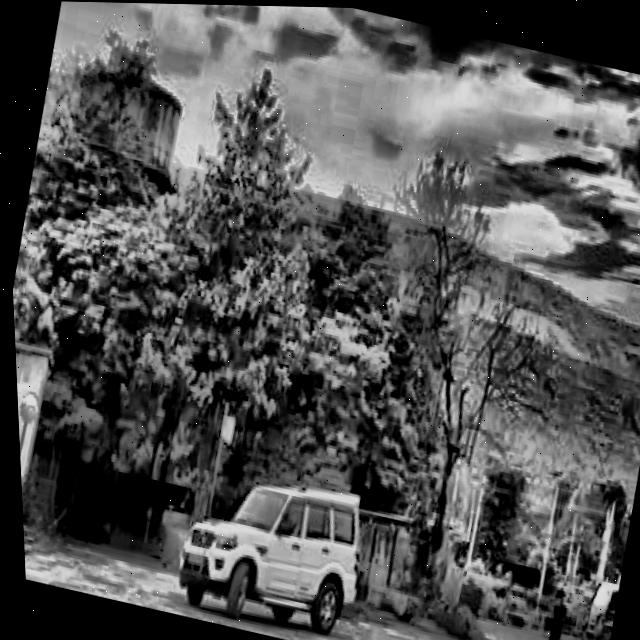light_vehicle: (159, 458, 373, 640)
